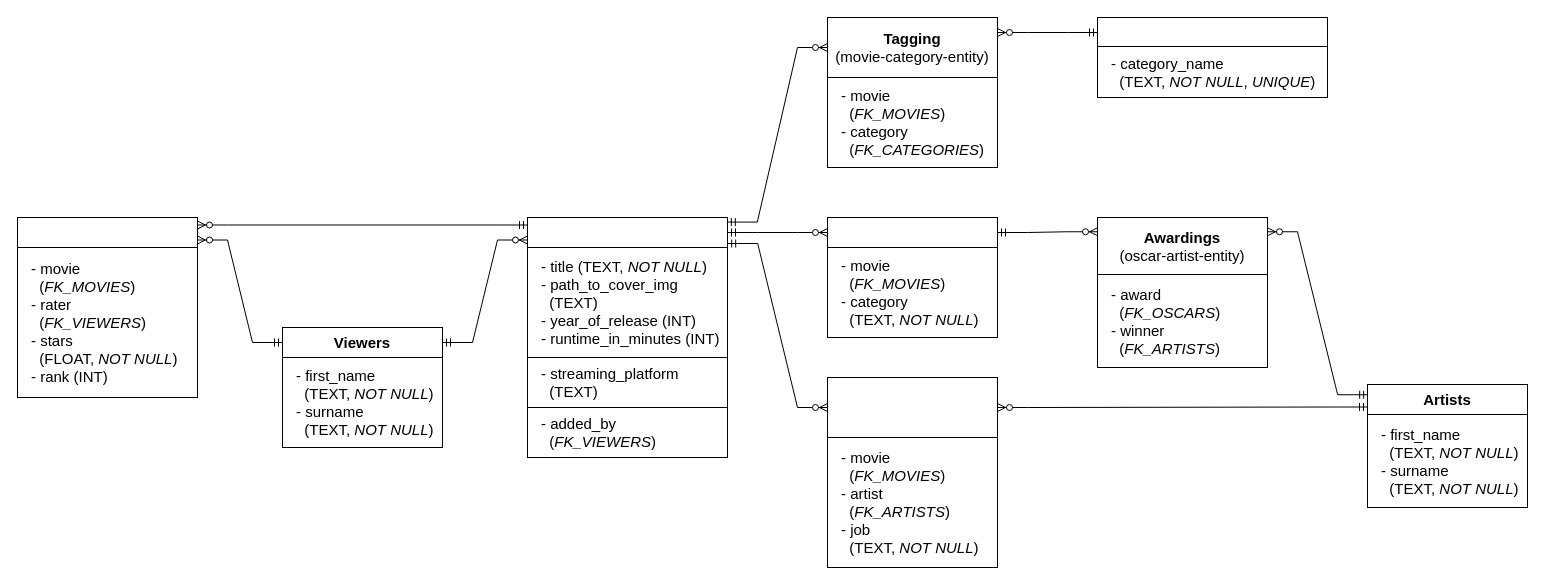
This 1545x585 diagram has some shape labels left out. The shapes that lost their labels are listed below. From the top down, each one's centre as x and y in pixels, then its label:
(x=1212, y=32): Categories
(x=107, y=232): Ratings
(x=627, y=232): Movies
(x=912, y=232): Oscars
(x=912, y=407): Engagements (movie-artist-entity)
